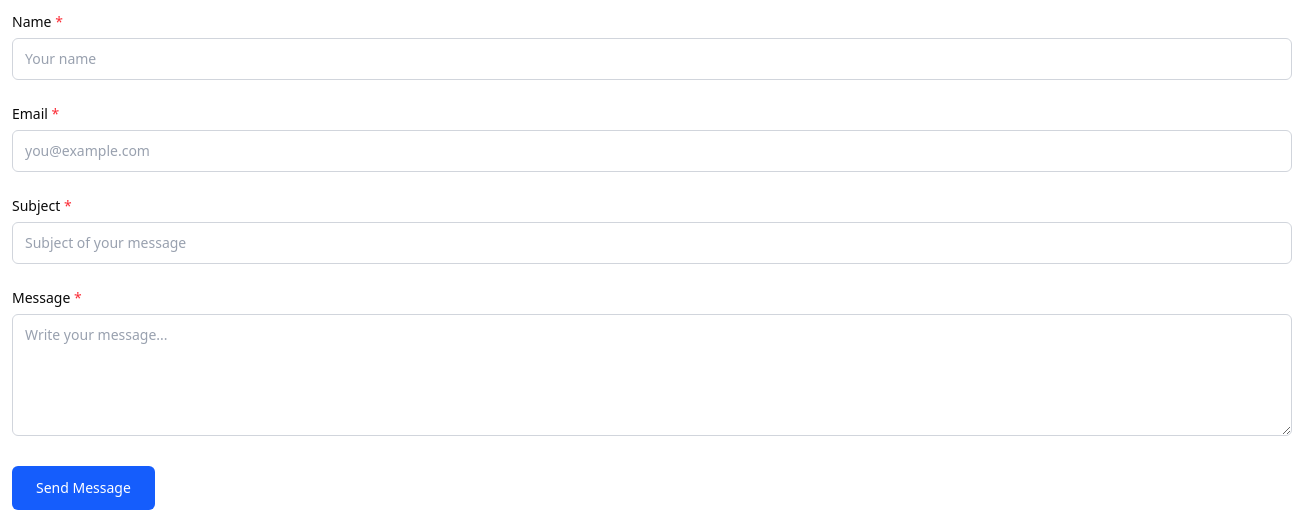
Test case: ContactForm › submits successfully and shows success message
Type "John Doe" into the field labelled "Name *" at (652, 59), box [12,38,1292,80]
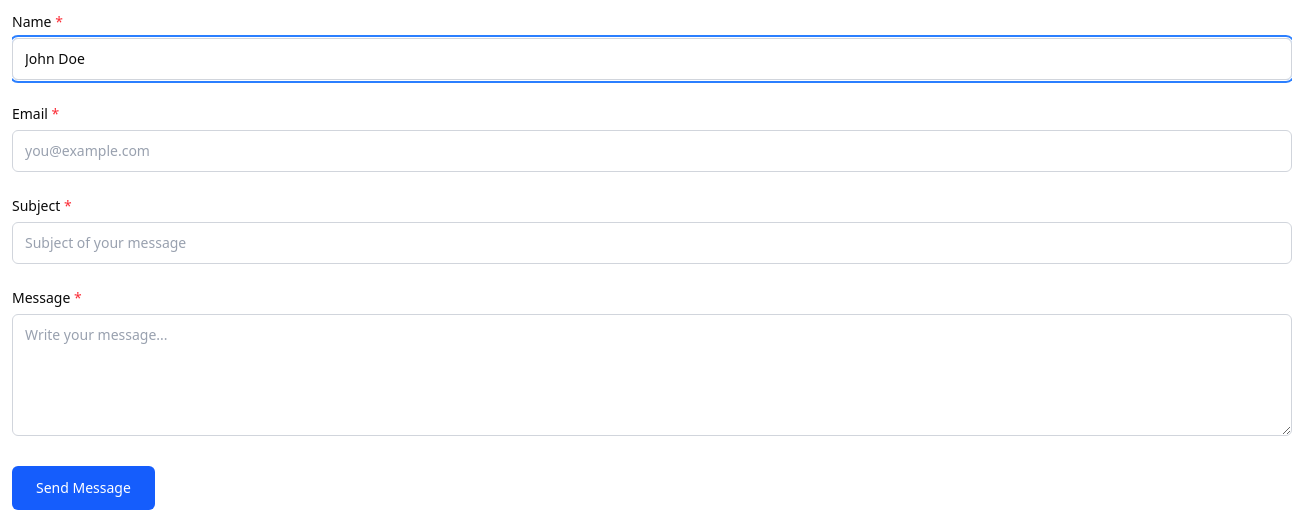
Type "john@example.com" into the field labelled "Email *" at (652, 151), box [12,130,1292,172]
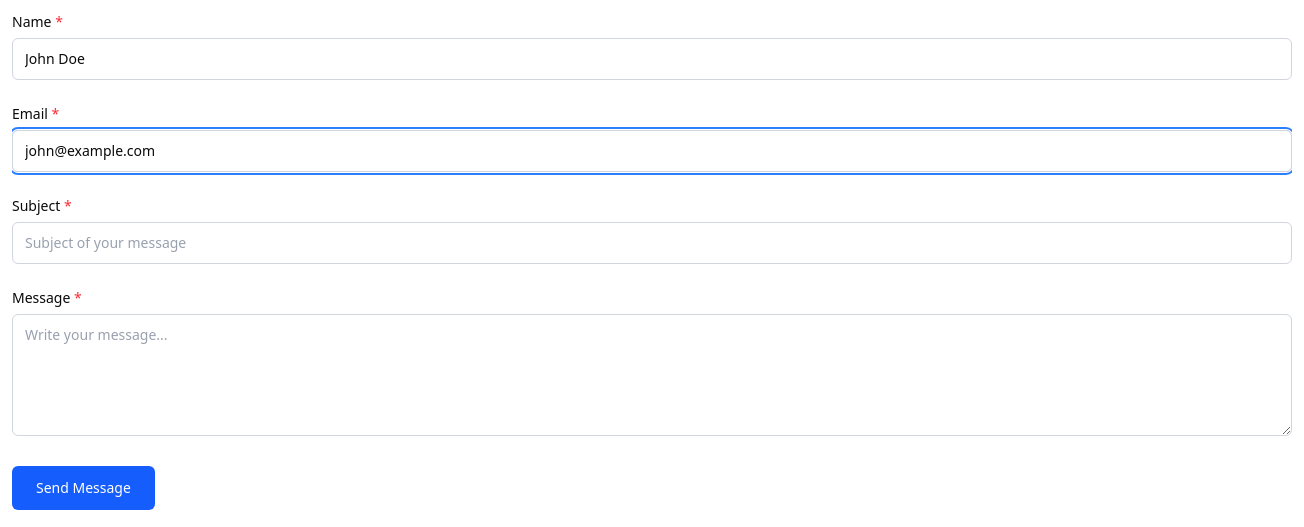
Type "Test Subject" into the field labelled "Subject *" at (652, 243), box [12,222,1292,264]
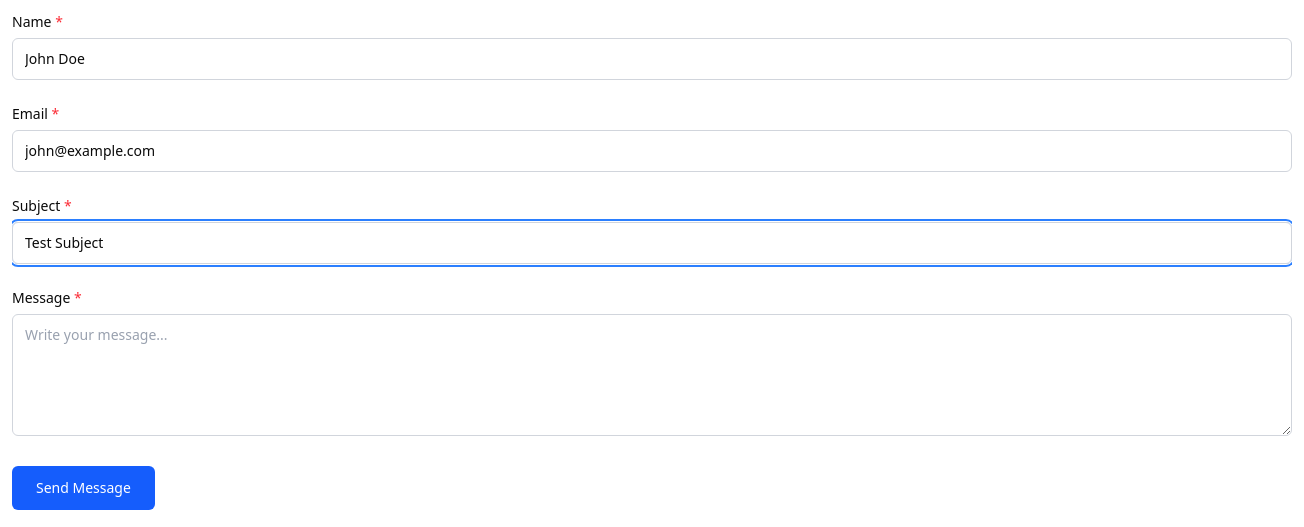
Type "This is a test message with enough characters." into the text box labelled "Message *" at (652, 375), box [12,314,1292,436]
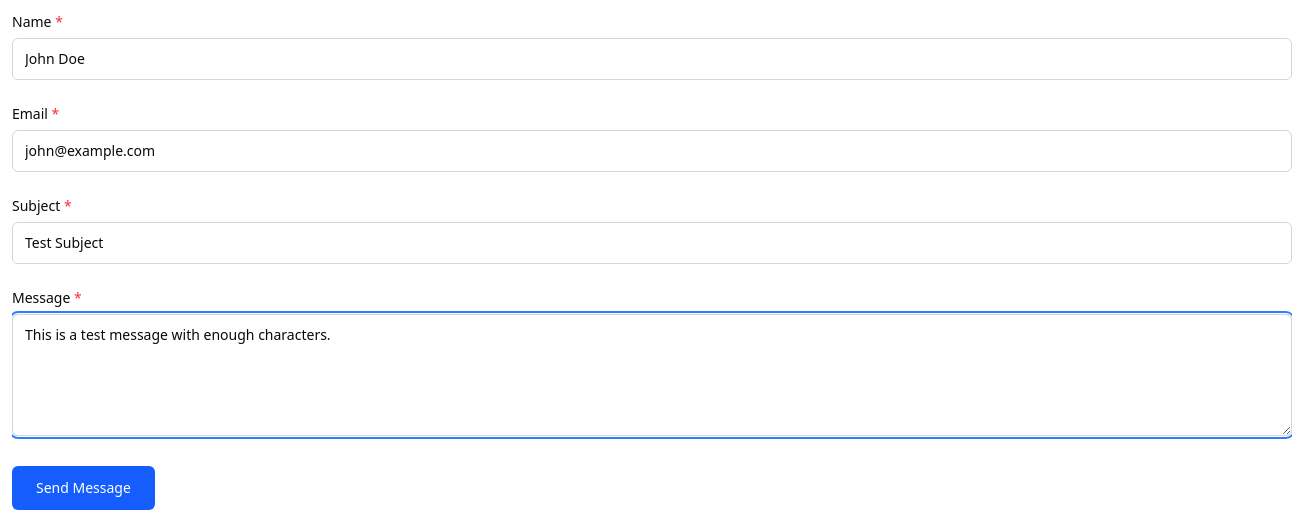
Click the button "Send Message" at (83, 488), box [12,466,155,510]
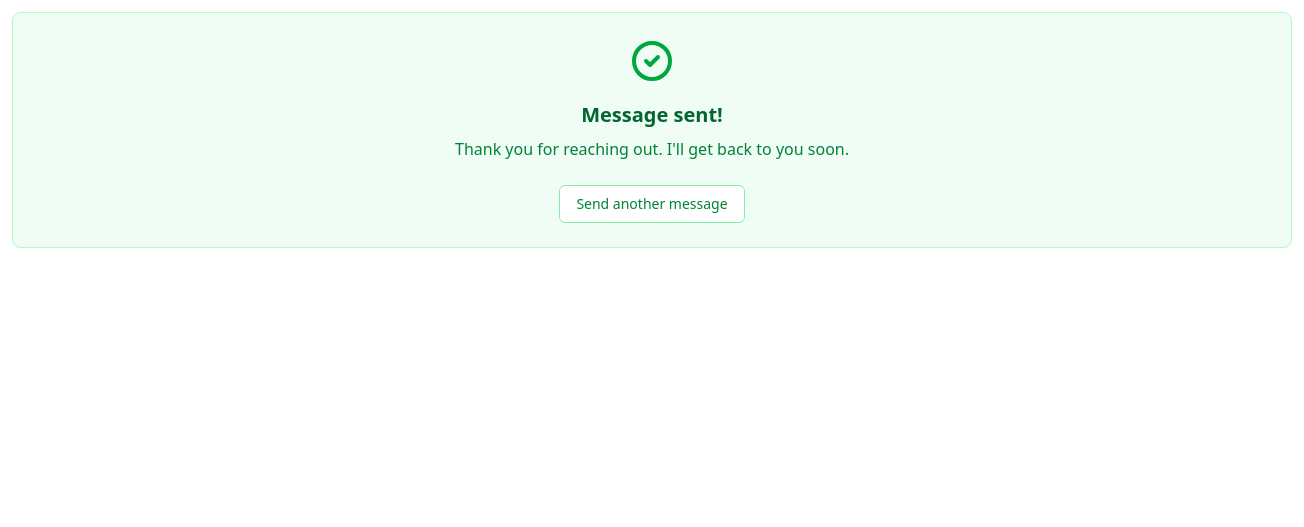
Result: the heading "Message sent!" is shown at [581,101,723,128]
